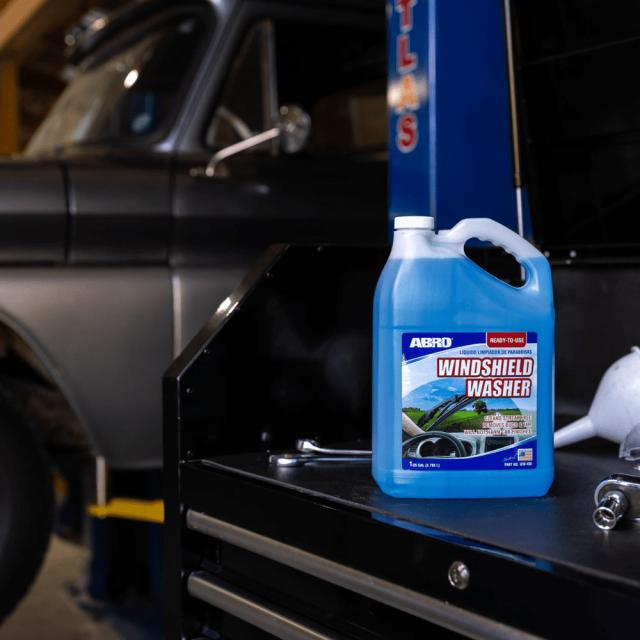winwinshield_washer: (370, 212, 563, 501)
